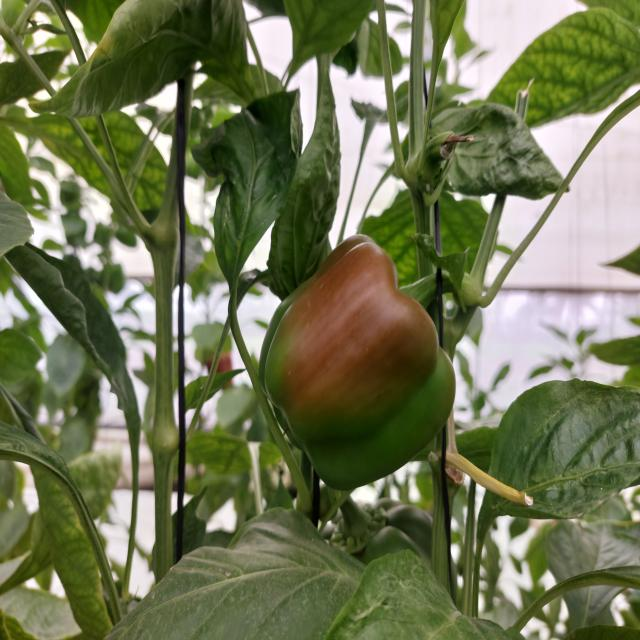BrownishRed--Can-be-Harvested: (265, 249, 466, 499)
